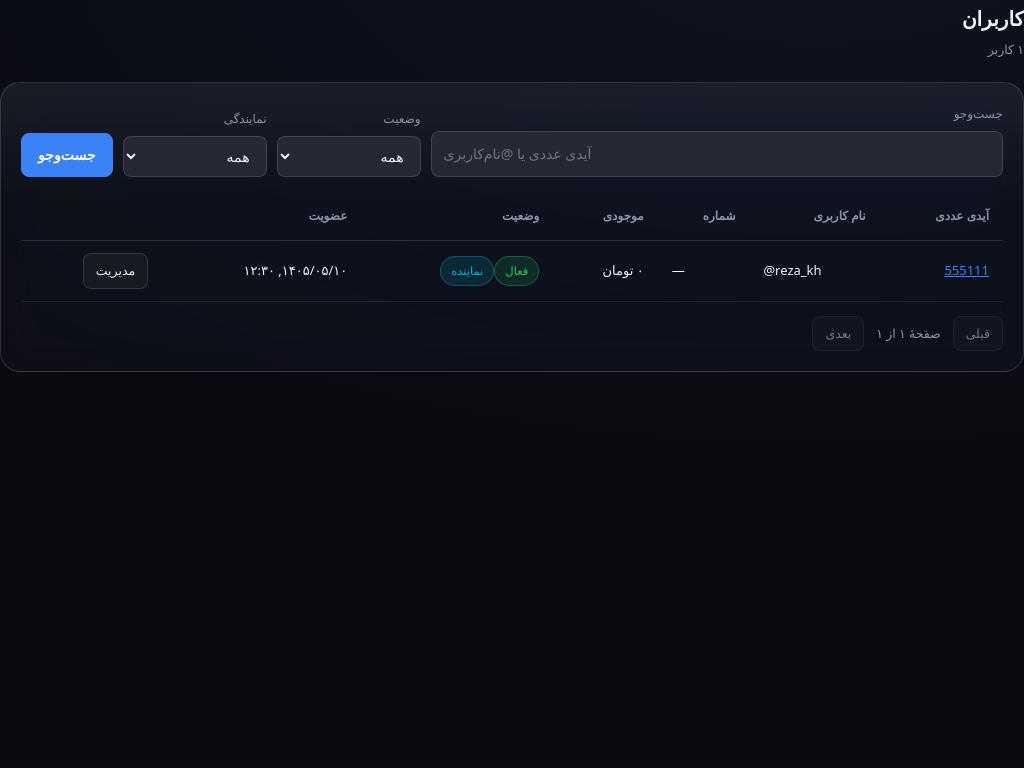
what the screen says a reseller pays › shows the level’s percentage, not the personal one
Click the button "مدیریت" at (116, 271), box 83,253 -> 148,289
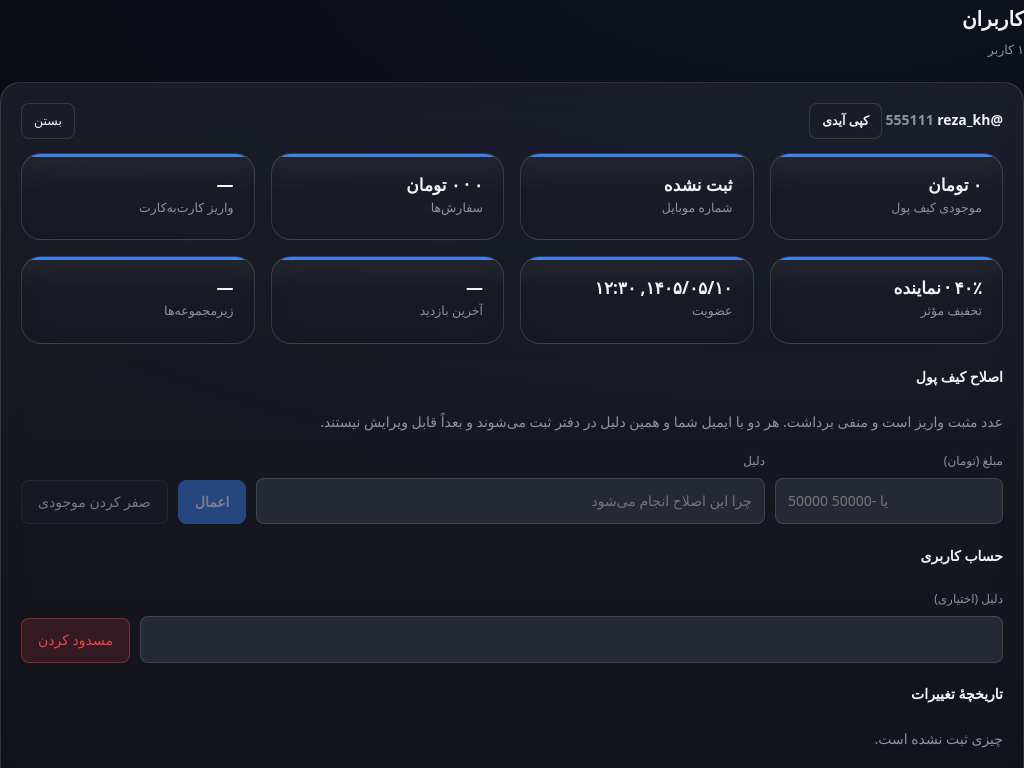
Result: the text "۴۰٪ · نماینده" is shown at 894,276 -> 982,299
